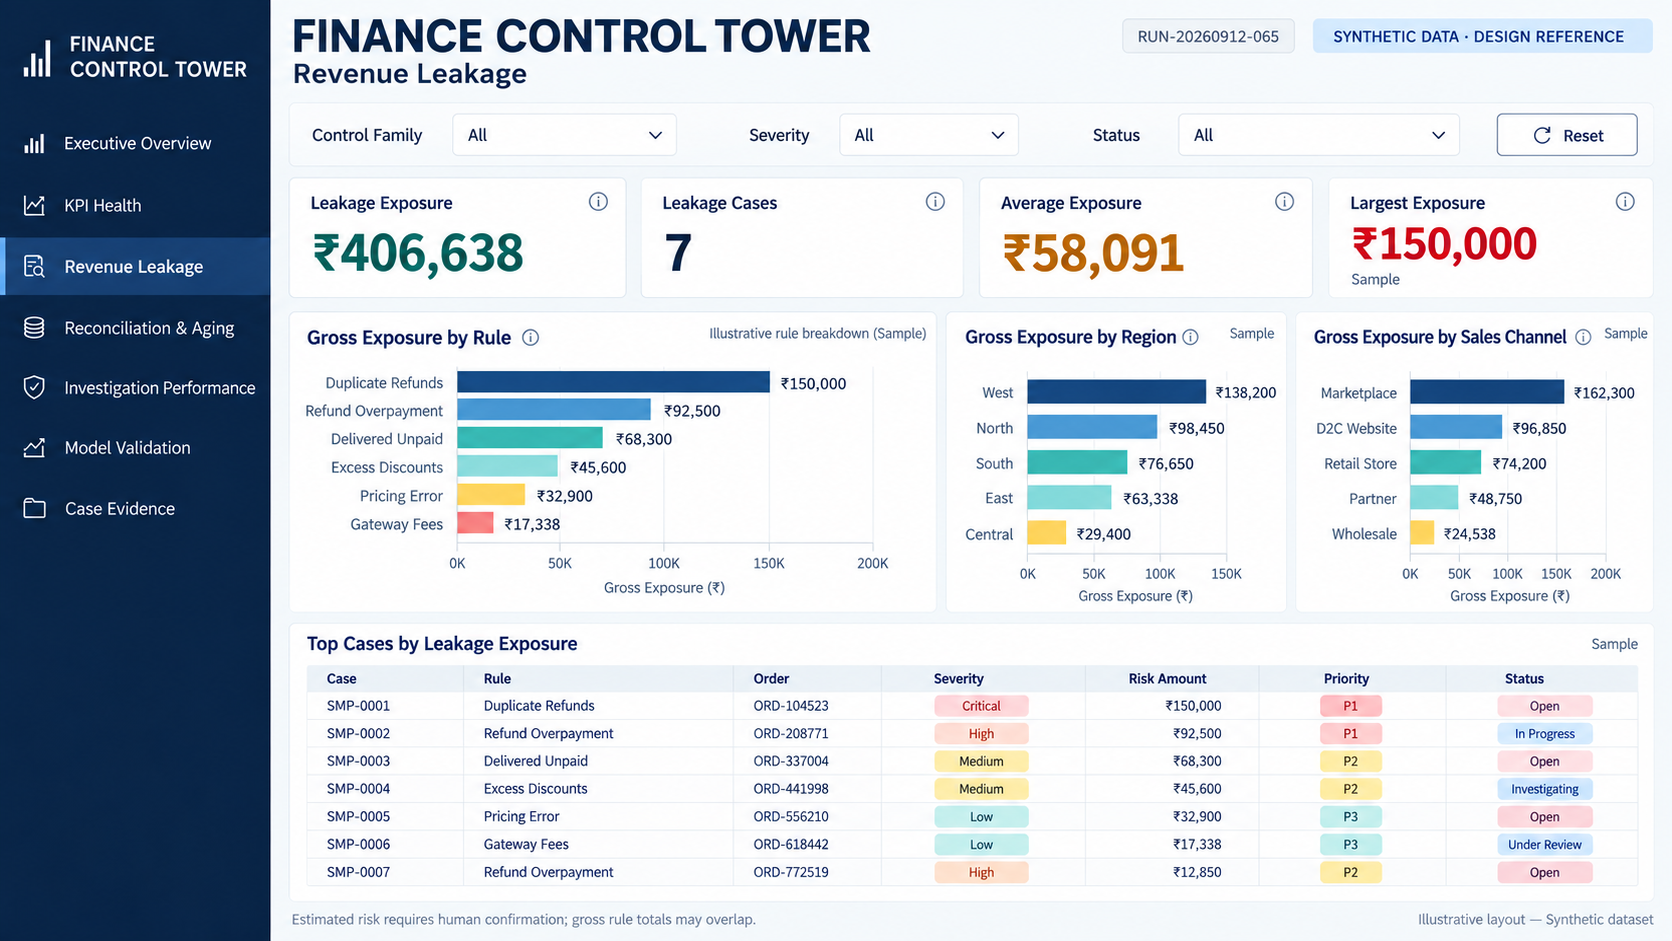

This screenshot's page, from the dashboard's own definition file:
{"tool":"powerbi","page":{"name":"Revenue Leakage","canvas":[1280,720],"ordinal":2},"visuals":[{"type":"textbox","box":[10,0,1270.4,68.9],"z":0},{"type":"cardVisual","title":"Leakage Exposure","fields":{"Data":["rpt_fact_findings.Leakage Exposure"]},"box":[10,69.8,196.8,100.2],"z":1000},{"type":"cardVisual","title":"Leakage Cases","fields":{"Data":["rpt_fact_findings.Leakage Cases"]},"box":[1150.7,170.5,129.7,188.6],"z":2000},{"type":"cardVisual","title":"Average Exposure per Case","fields":{"Data":["rpt_fact_findings.Average Exposure per Case"]},"box":[206.8,69.8,229.7,100.4],"z":3000},{"type":"cardVisual","title":"Largest Single Exposure","fields":{"Data":["rpt_fact_findings.Largest Single Exposure"]},"box":[437.1,69.8,221.4,100.4],"z":4000},{"type":"cardVisual","title":"High Value Cases","fields":{"Data":["rpt_fact_findings.High Value Cases"]},"box":[1138,68.9,141.8,100.4],"z":5000},{"type":"cardVisual","title":"Duplicate Refund Exposure","fields":{"Data":["rpt_fact_findings.Duplicate Refund Exposure"]},"box":[908.6,68.9,229.7,100.4],"z":6000},{"type":"cardVisual","title":"Delivered Unpaid Exposure","fields":{"Data":["rpt_fact_findings.Delivered Unpaid Exposure"]},"box":[658.3,68.9,250.4,100.4],"z":7000},{"type":"clusteredBarChart","title":"Gross Exposure by Leakage Rule","fields":{"Category":["rpt_dim_rule.rule_code"],"Y":["rpt_fact_findings.Gross Exposure"]},"box":[10,169.6,648.4,189.5],"z":8000},{"type":"treemap","title":"Gross Leakage Exposure by Region","fields":{"Group":["rpt_fact_findings.region"],"Values":["rpt_fact_findings.Gross Exposure"]},"box":[658.3,171.4,492.4,188.6],"z":9000},{"type":"clusteredBarChart","title":"Gross Leakage Exposure by Sales Channel","fields":{"Category":["rpt_fact_findings.sales_channel"],"Y":["rpt_fact_findings.Gross Exposure"]},"box":[0,359.1,658.3,151.4],"z":10000},{"type":"clusteredBarChart","title":"Gross Leakage Exposure by Customer Segment","fields":{"Category":["rpt_fact_findings.customer_segment"],"Y":["rpt_fact_findings.Gross Exposure"]},"box":[659.2,360,621.2,150.5],"z":11000},{"type":"tableEx","title":"Review Queue","fields":{"Values":["rpt_fact_findings.finding_id","rpt_fact_findings.rule_code","rpt_fact_findings.order_id","rpt_fact_findings.severity","rpt_fact_findings.risk_amount","rpt_fact_findings.priority_score","rpt_fact_findings.status"]},"box":[0,510.5,1279.5,199.5],"z":12000},{"type":"slicer","title":"Severity","fields":{"Values":["rpt_dim_severity.severity"]},"box":[366.3,0,214.9,68.9],"z":13000}]}

Visuals, with their boxes on the page's 1280x720 design canvas (x1, y1, x2, y2). These are canvas units, not pixel positions in the 1672x941 screenshot, which may show the page scaled, cropped or inside an application window:
textbox: (10,0,1280,69)
"Leakage Exposure" cardVisual: (10,70,207,170)
"Leakage Cases" cardVisual: (1151,170,1280,359)
"Average Exposure per Case" cardVisual: (207,70,436,170)
"Largest Single Exposure" cardVisual: (437,70,658,170)
"High Value Cases" cardVisual: (1138,69,1280,169)
"Duplicate Refund Exposure" cardVisual: (909,69,1138,169)
"Delivered Unpaid Exposure" cardVisual: (658,69,909,169)
"Gross Exposure by Leakage Rule" clusteredBarChart: (10,170,658,359)
"Gross Leakage Exposure by Region" treemap: (658,171,1151,360)
"Gross Leakage Exposure by Sales Channel" clusteredBarChart: (0,359,658,510)
"Gross Leakage Exposure by Customer Segment" clusteredBarChart: (659,360,1280,510)
"Review Queue" tableEx: (0,510,1280,710)
"Severity" slicer: (366,0,581,69)
